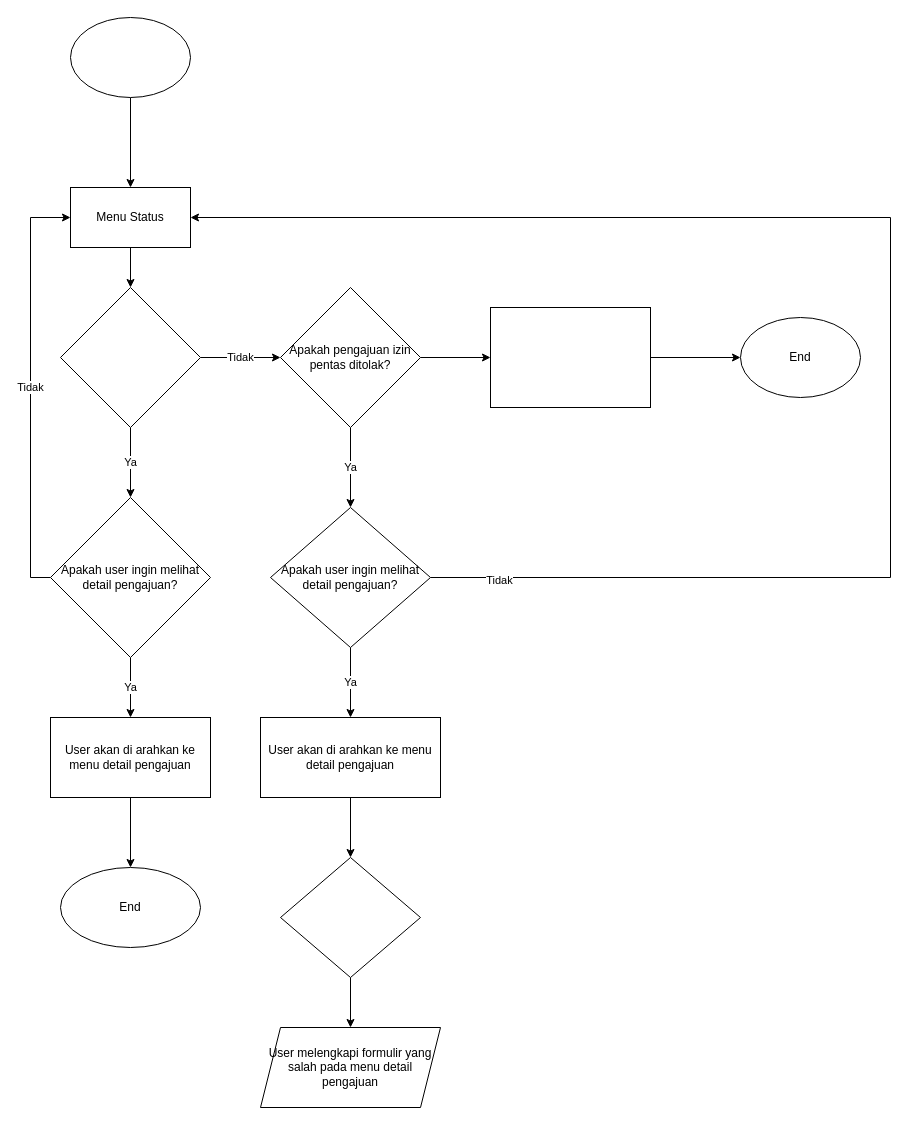
Image size: 916x1125. Some labels were removed from this diagram. Each missing label, with the centre of its shape:
Apakah pengajuan izin pentas diterima?: point 130,357
Apakah user ingin membuat pengajuan ulang?: point 350,917
Pada menu status akan muncul keterangan Proses: point 570,357
Start: point 130,57
